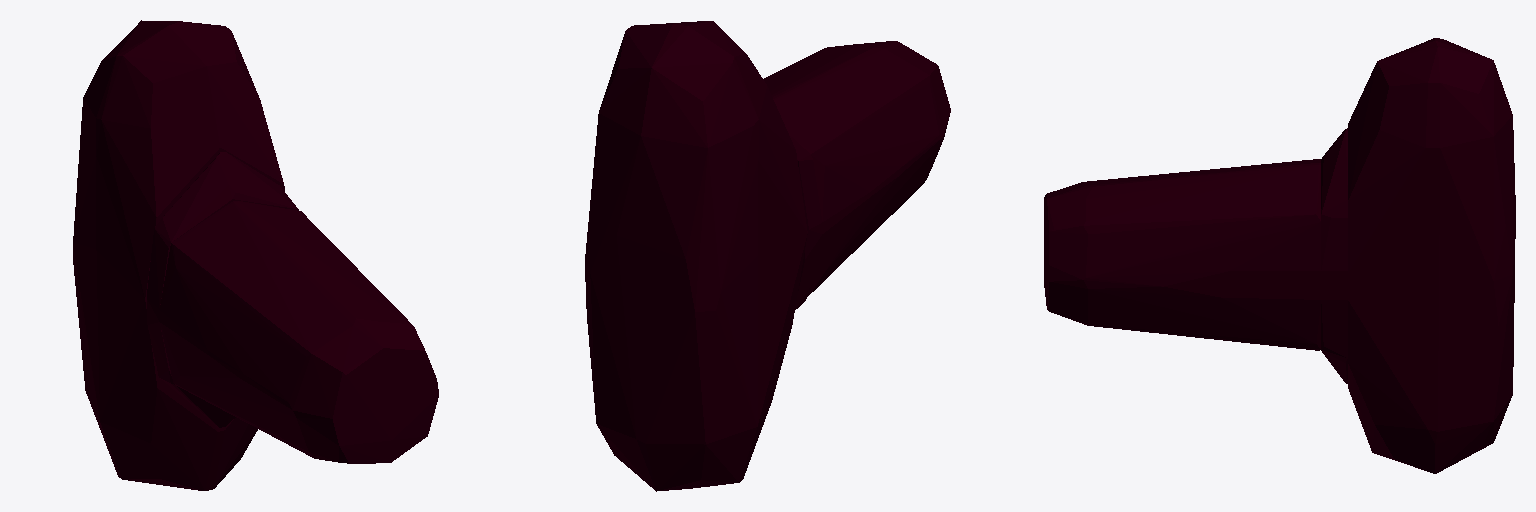
robot.urdf — blob613:
<robot name="blob613">
  <link name="random_obj_613">
    <contact>
      <lateral_friction value="1.0"/>
      <rolling_friction value="0.0"/>
      <inertia_scaling value="3.0"/>
      <contact_cfm value="0.0"/>
      <contact_erp value="1.0"/>
    </contact>
    <inertial>
      <origin rpy="0 0 0" xyz="0 0 0"/>
      <mass value="0.1"/>
      <inertia ixx="1" ixy="0" ixz="0" iyy="1" iyz="0" izz="0"/>
    </inertial>
    <visual>
      <origin rpy="0 0 0" xyz="0 0 0"/>
      <geometry>
        <mesh filename="613.obj" scale="0.015 0.015 0.015"/>
      </geometry>
      <material name="blockmat">
        <color rgba="0.17 0.00 0.07 1"/>
      </material>
    </visual>
    <collision>
      <origin rpy="0 0 0" xyz="0 0 0"/>
      <geometry>
        <mesh filename="613.obj" scale="0.015 0.015 0.015"/>
      </geometry>
    </collision>
  </link>
</robot>

--- Render facts (derived) ---
3 views of the same robot in one strip: view 1: azimuth 30°, elevation 25°; view 2: azimuth 150°, elevation 25°; view 3: azimuth 270°, elevation 25° (orthographic).
Robot: blob613 — 1 links, 0 joints (none); root link random_obj_613; default pose: every joint at zero.
Visible links, largest first — view 1: random_obj_613; view 2: random_obj_613; view 3: random_obj_613.
Boxes of the visible links, bbox=[...] form: random_obj_613: bbox=[73, 20, 438, 490]; random_obj_613: bbox=[585, 21, 950, 491]; random_obj_613: bbox=[1044, 38, 1515, 473].
Bounding box of the posed robot: 0.0307 × 0.0918 × 0.0908 m (x, y, z).
1 mesh visuals loaded from 1 distinct referenced files (1 OBJ).